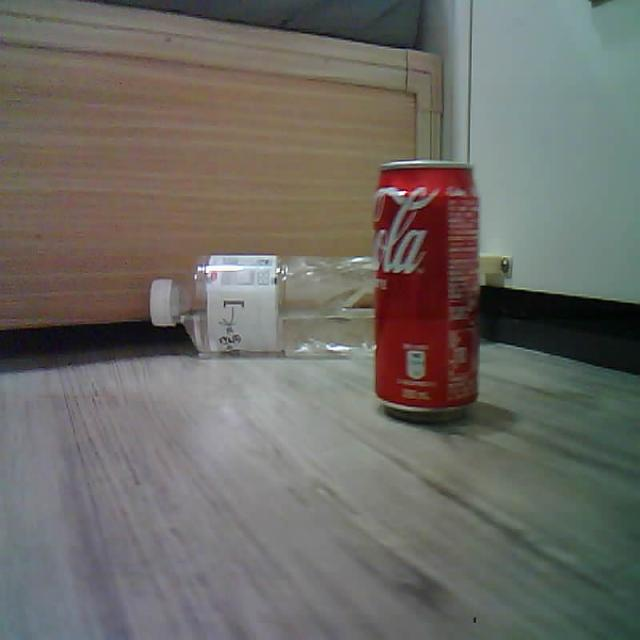bottle: (149, 255, 374, 355)
can: (374, 160, 478, 418)
